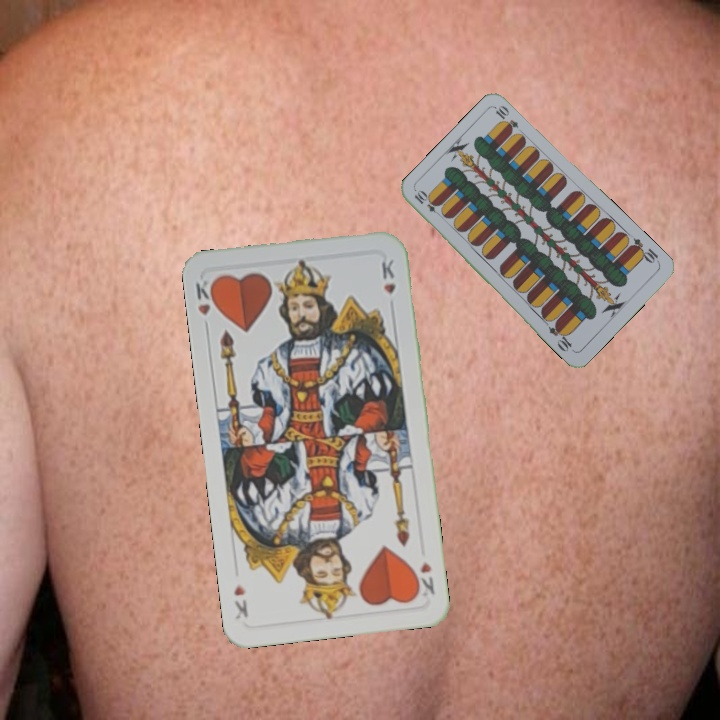E10: (410, 187, 445, 220), (626, 234, 662, 266)
HK: (191, 276, 220, 335), (416, 557, 437, 599)
